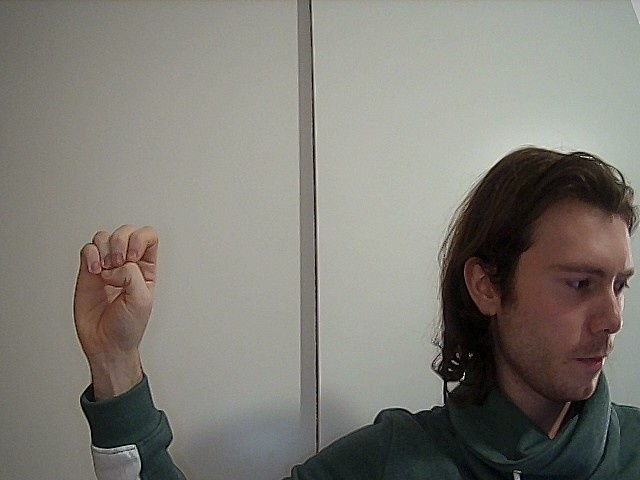e: (63, 219, 182, 356)
